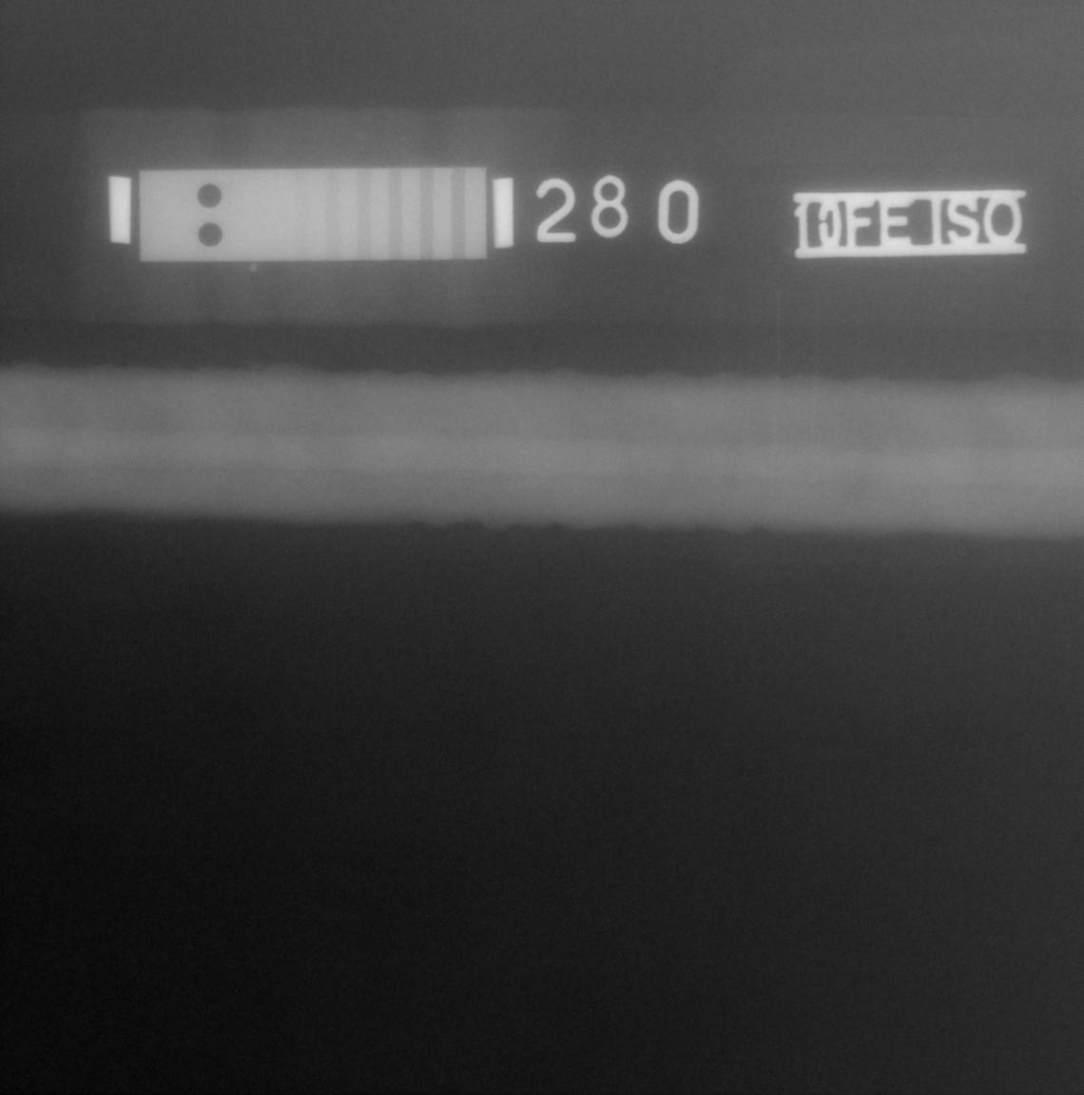Reference Standard 2: (140, 167, 487, 261)
